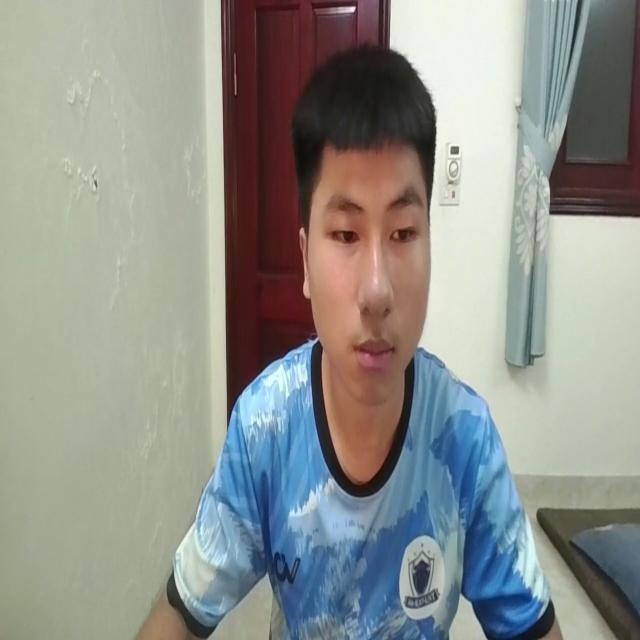student: (129, 39, 557, 640)
